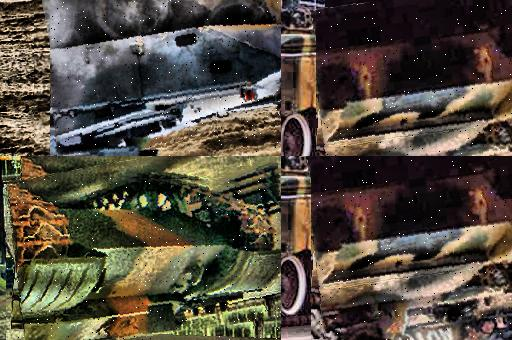tanks: (8, 179, 282, 340), (313, 157, 512, 340), (51, 1, 282, 157), (318, 1, 512, 157), (311, 1, 512, 60), (306, 157, 512, 202)
